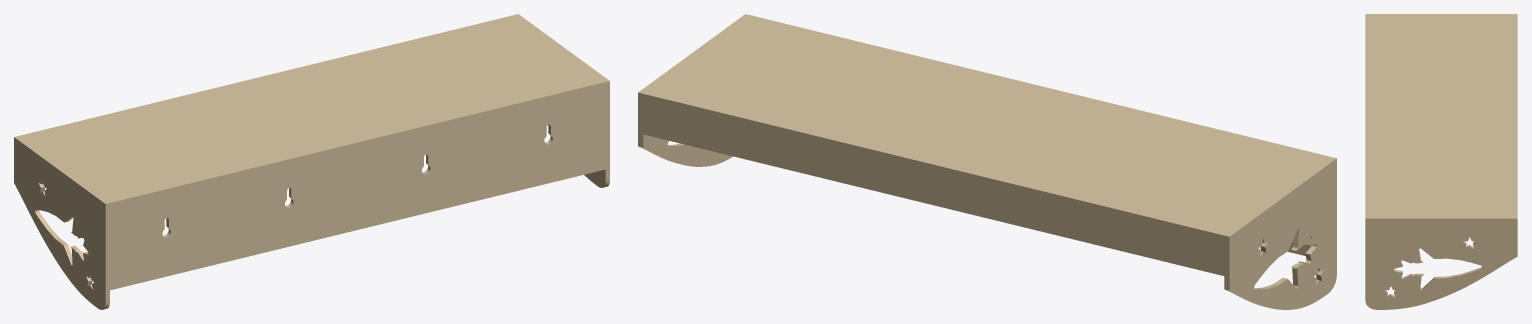
The model's file is kids-shelf-700-design-only.glb.
3 renders of one model, left to right at view 1: azimuth 30°, elevation 25°; view 2: azimuth 150°, elevation 25°; view 3: azimuth 270°, elevation 25°, orthographic. The views are drawn at different scales.
Visible parts, largest first — view 1: TOP, REAR, BRACKET_L, BRACKET_R, FRONT; view 2: TOP, FRONT, BRACKET_L, BRACKET_R, REAR; view 3: TOP, BRACKET_R, REAR, FRONT.
Boxes of the visible parts, <box> form: TOP: <box>14,14,609,208</box>; REAR: <box>103,86,609,290</box>; BRACKET_L: <box>14,142,109,309</box>; BRACKET_R: <box>527,23,609,187</box>; FRONT: <box>14,30,455,168</box>; TOP: <box>638,14,1336,241</box>; FRONT: <box>638,99,1232,275</box>; BRACKET_L: <box>1224,164,1336,309</box>; BRACKET_R: <box>638,24,736,166</box>; REAR: <box>819,32,1336,255</box>; TOP: <box>1365,14,1517,222</box>; BRACKET_R: <box>1365,216,1517,309</box>; REAR: <box>1365,40,1369,277</box>; FRONT: <box>1513,40,1517,243</box>.
Size of the model in its own units: 0.7 by 0.146 by 0.22.
